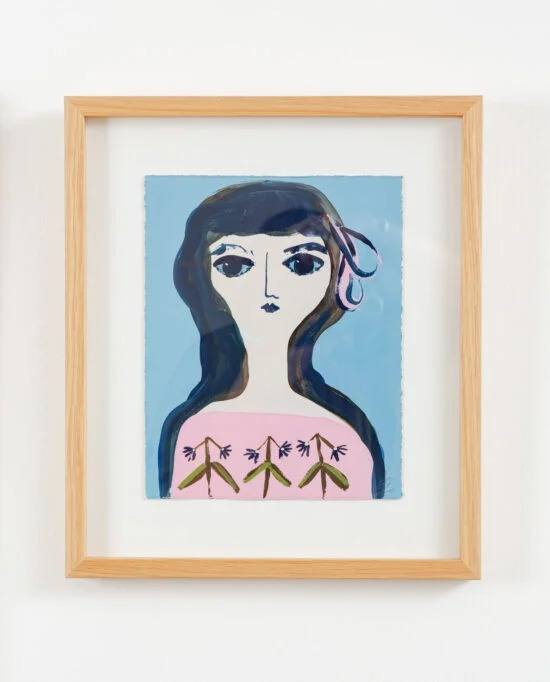painting: (62, 95, 484, 581)
